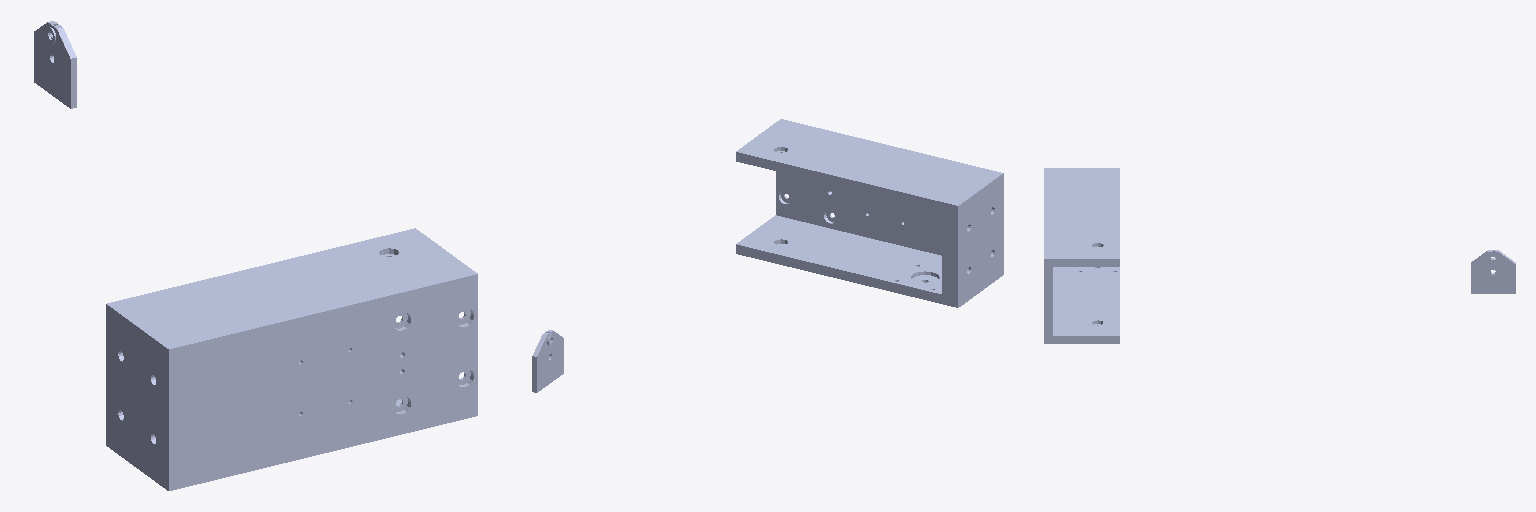
URDF robot description (gripper40):
<robot
  name="gripper40">
  <link
    name="base_link">
    <inertial>
      <origin
        xyz="0.015234 0.14485 -0.0033374"
        rpy="0 0 0" />
      <mass
        value="0.52476" />
      <inertia
        ixx="0.0082069"
        ixy="-0.00037067"
        ixz="-3.8269E-05"
        iyy="0.00036421"
        iyz="-0.00018426"
        izz="0.0083159" />
    </inertial>
    <visual>
      <origin
        xyz="0 0 0"
        rpy="0 0 0" />
      <geometry>
        <mesh
          filename="base_link.stl" />
      </geometry>
      <material
        name="">
        <color
          rgba="0.79216 0.81961 0.93333 1" />
      </material>
    </visual>
    <collision>
      <origin
        xyz="0 0 0"
        rpy="0 0 0" />
      <geometry>
        <mesh
          filename="base_link.stl" />
      </geometry>
    </collision>
  </link>
  <link
    name="vacuum_link">
    <inertial>
      <origin
        xyz="2.0356E-05 0.032584 -0.017519"
        rpy="0 0 0" />
      <mass
        value="0.026239" />
      <inertia
        ixx="1.2865E-05"
        ixy="-2.5108E-07"
        ixz="4.0041E-07"
        iyy="8.3467E-06"
        iyz="3.7141E-07"
        izz="7.7947E-06" />
    </inertial>
    <visual>
      <origin
        xyz="0 0 0"
        rpy="0 0 0" />
      <geometry>
        <mesh
          filename="vacuum_link.stl" />
      </geometry>
      <material
        name="">
        <color
          rgba="0.79216 0.81961 0.93333 1" />
      </material>
    </visual>
    <collision>
      <origin
        xyz="0 0 0"
        rpy="0 0 0" />
      <geometry>
        <mesh
          filename="vacuum_link.stl" />
      </geometry>
    </collision>
  </link>
  <joint
    name="vacuum_joint"
    type="revolute">
    <origin
      xyz="-0.0025142 0.35974 0.0195"
      rpy="0 0 0" />
    <parent
      link="base_link" />
    <child
      link="vacuum_link" />
    <axis
      xyz="0 0 -1" />
    <limit
      effort="0"
      velocity="0" />
  </joint>
</robot>

--- Facts derived from the render (not from the file) ---
3 views of the same robot in one strip: view 1: azimuth 30°, elevation 25°; view 2: azimuth 150°, elevation 25°; view 3: azimuth 270°, elevation 25° (orthographic).
Model gripper40 with 2 links and 1 joints (1 revolute), rooted at base_link, posed every joint at zero.
Links seen in each view (by area): view 1: base_link, vacuum_link; view 2: base_link, vacuum_link; view 3: base_link, vacuum_link.
Link boxes in pixels (x1,y1,x2,y2): base_link: (106, 228, 477, 490); vacuum_link: (34, 21, 76, 108); base_link: (736, 119, 1003, 307); vacuum_link: (532, 330, 563, 392); base_link: (1044, 168, 1119, 343); vacuum_link: (1471, 250, 1515, 293).
Bounding box of the posed robot: 0.194 × 0.4252 × 0.085 m (x, y, z).
2 mesh visuals loaded from 2 distinct referenced files (2 binary STL).